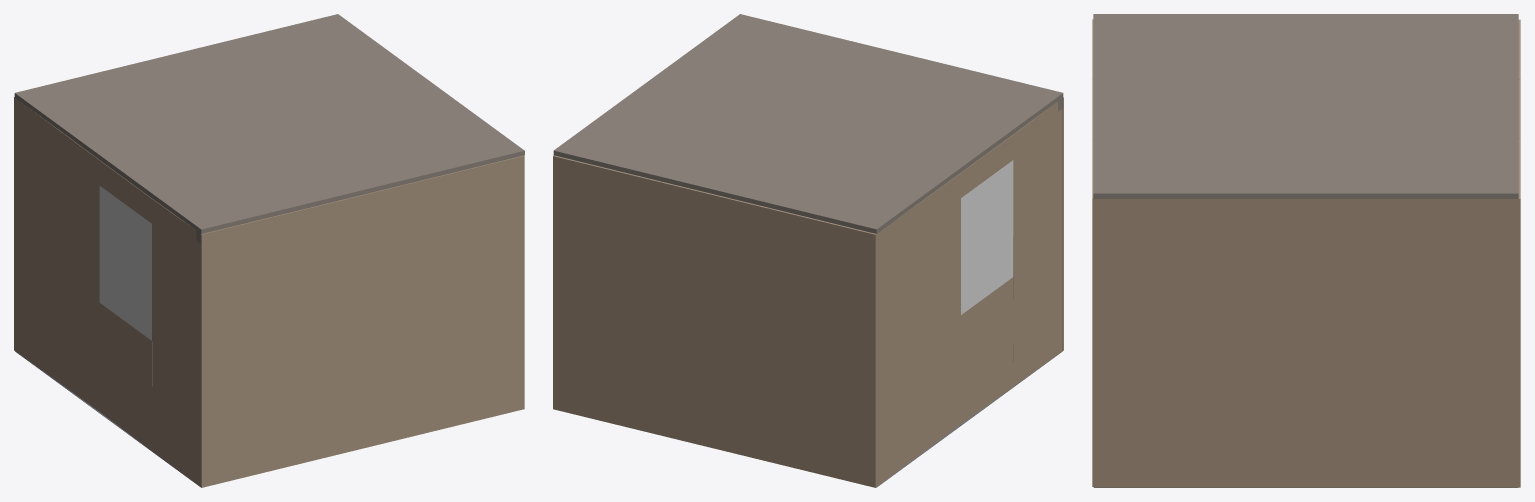
Rendered from RickyAndMorty3.fbx.
3 views of the same model, side by side, from view 1: azimuth 30°, elevation 25°; view 2: azimuth 150°, elevation 25°; view 3: azimuth 270°, elevation 25° (orthographic). The views are drawn at different scales.
Visible parts, largest first — view 1: Room.004, Plane.055, Room.013, Room.015, Room.012, Room.014, Room.016; view 2: Room.002, Plane.055, Room.013, Room.015, Room.012, Room.014, Room.016; view 3: Room.005, Plane.055, Room.004, Room.002.
Part boxes in pixels (x1,y1,x2,y2): Room.004: (200,155,524,487); Plane.055: (14,14,524,233); Room.013: (15,98,99,411); Room.015: (151,198,200,486); Room.012: (99,186,151,340); Room.014: (99,303,152,451); Room.016: (99,160,151,223); Room.002: (553,155,876,487); Plane.055: (553,14,1063,233); Room.013: (876,173,960,486); Room.015: (1013,101,1062,386); Room.012: (961,160,1013,314); Room.014: (961,277,1013,424); Room.016: (961,135,1013,197); Room.005: (1094,198,1519,487); Plane.055: (1093,14,1518,198); Room.004: (1092,19,1094,486); Room.002: (1518,19,1520,487).
Bounding box in the file's own units: 8.02 × 6.12 × 8.07.
